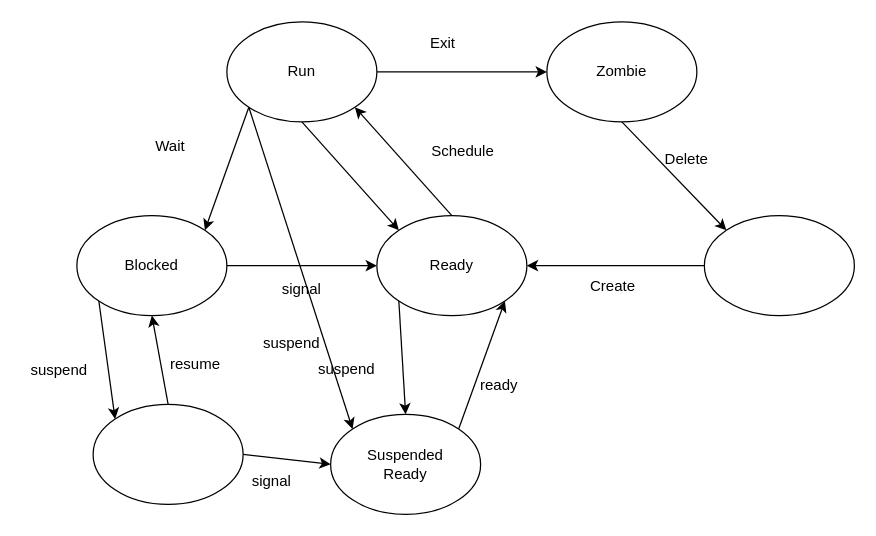
The diagram is 876 pixels wide and 536 high, and some of its shapes have lost their labels. The shapes that lost their labels are listed below. From the top down, each one's centre as x and y in pixels, then its label:
At (x=778, y=265): "Non-existant".
At (x=167, y=453): "Suspended Blocked".
